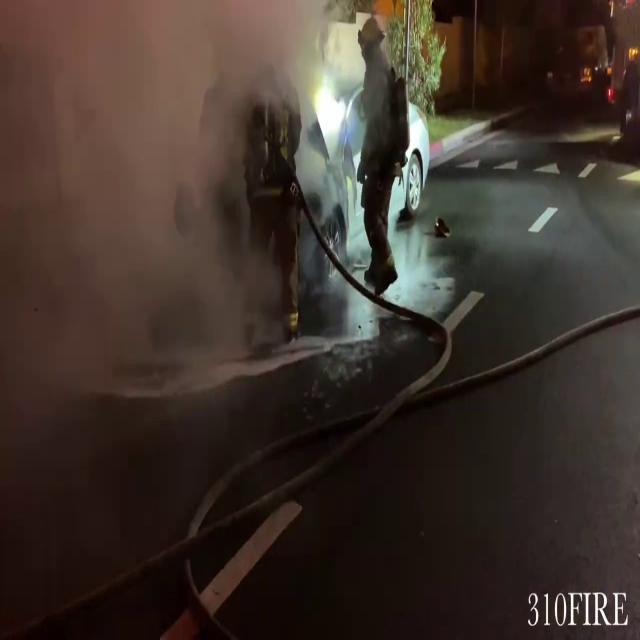Smoke: (0, 0, 304, 451)
